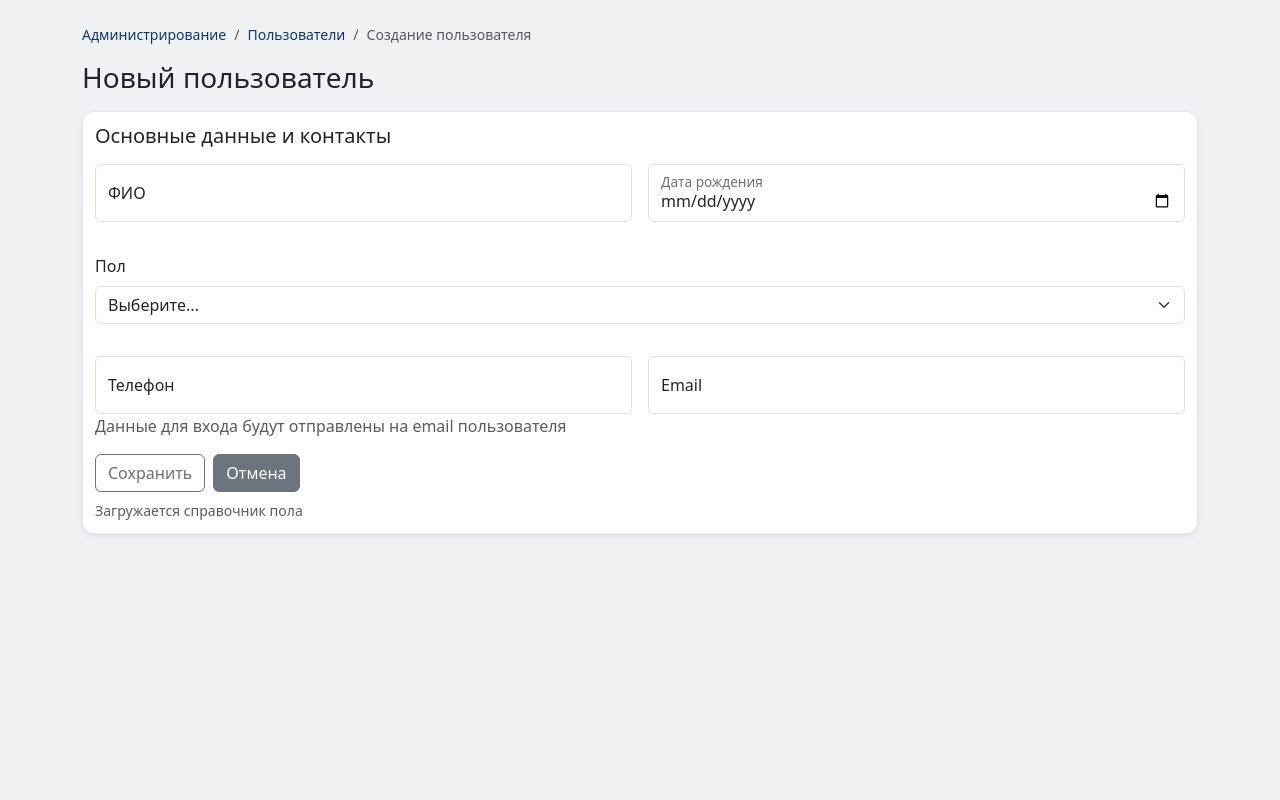
Test: AdminUserCreate view › shows resend CTA when delivery failed and retries invite
This screenshot has width=1280, height=800.
Type "Иванов Иван" into the field labelled "ФИО".
click(364, 193); type("Иванов Иван")  # box [95,164,632,222]
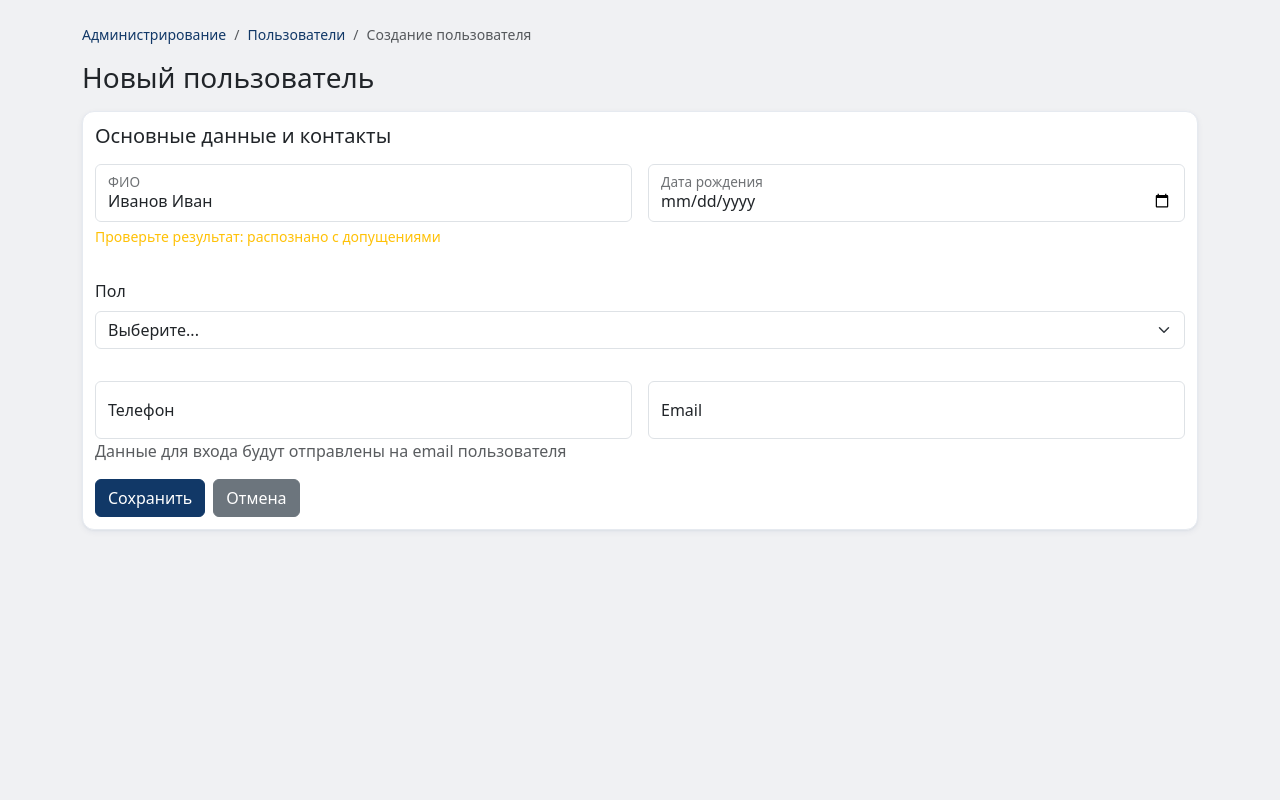
Type "2000-01-01" into the date field labelled "Дата рождения".
click(916, 193); type("2000-01-01")  # box [648,164,1185,222]
Select "Мужской" in the dropdown at (640, 330), box [95,311,1185,349]
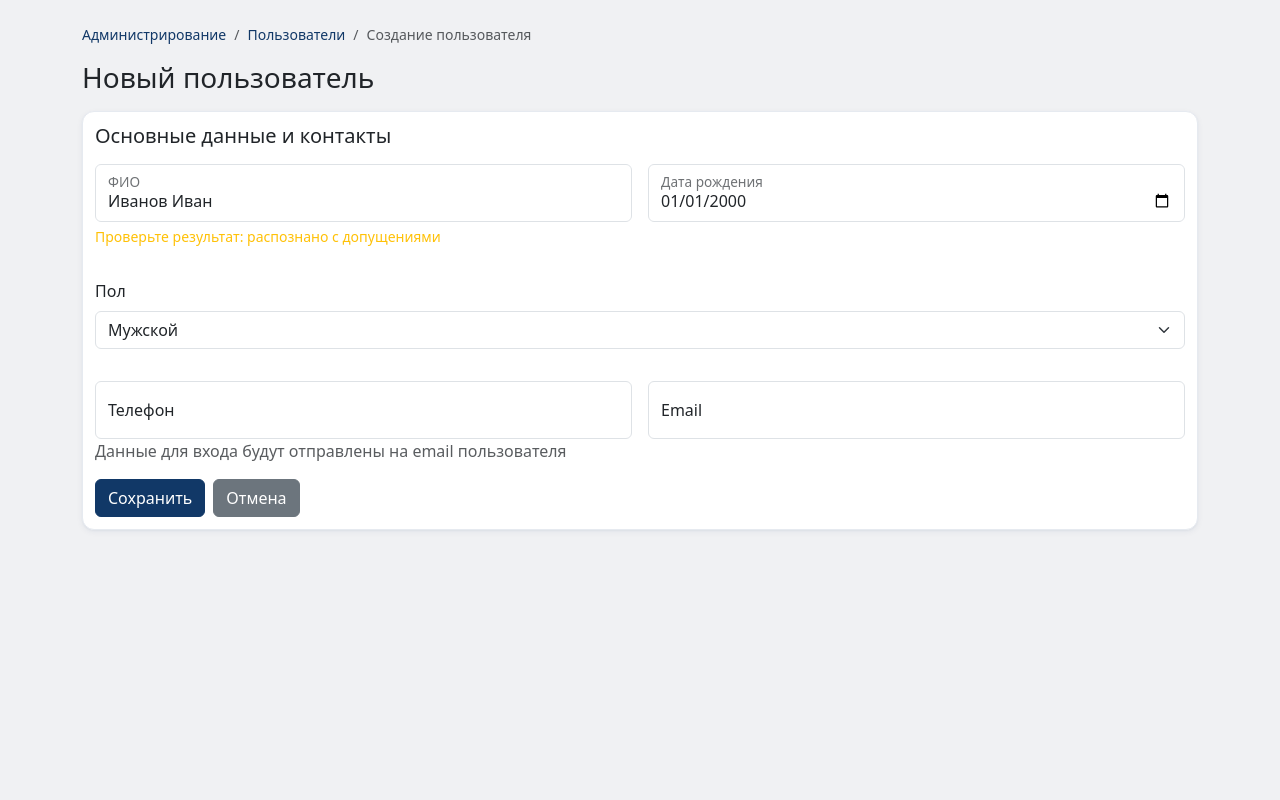
Type "89991112233" into the field with placeholder "Телефон".
click(364, 410); type("89991112233")  # box [95,381,632,439]
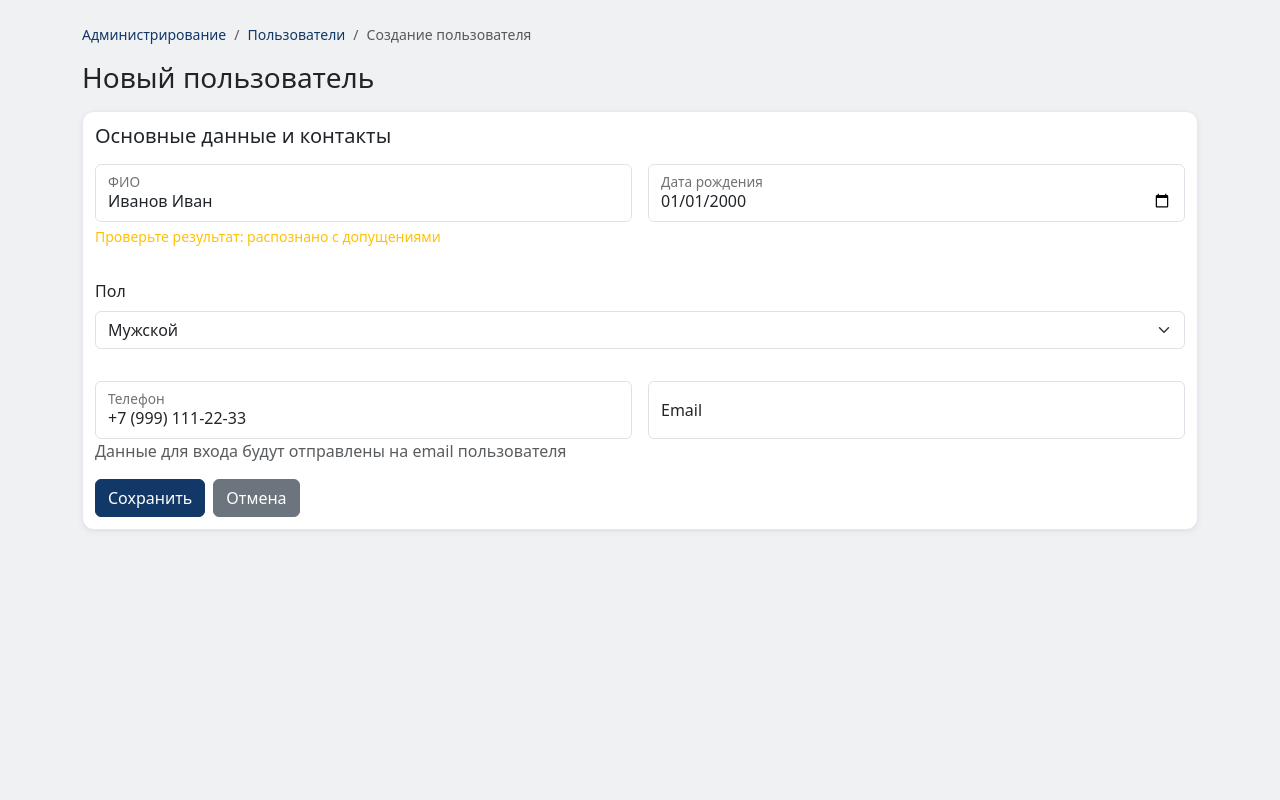
Type "ivanov@example.com" into the field with placeholder "Email".
click(916, 410); type("ivanov@example.com")  # box [648,381,1185,439]
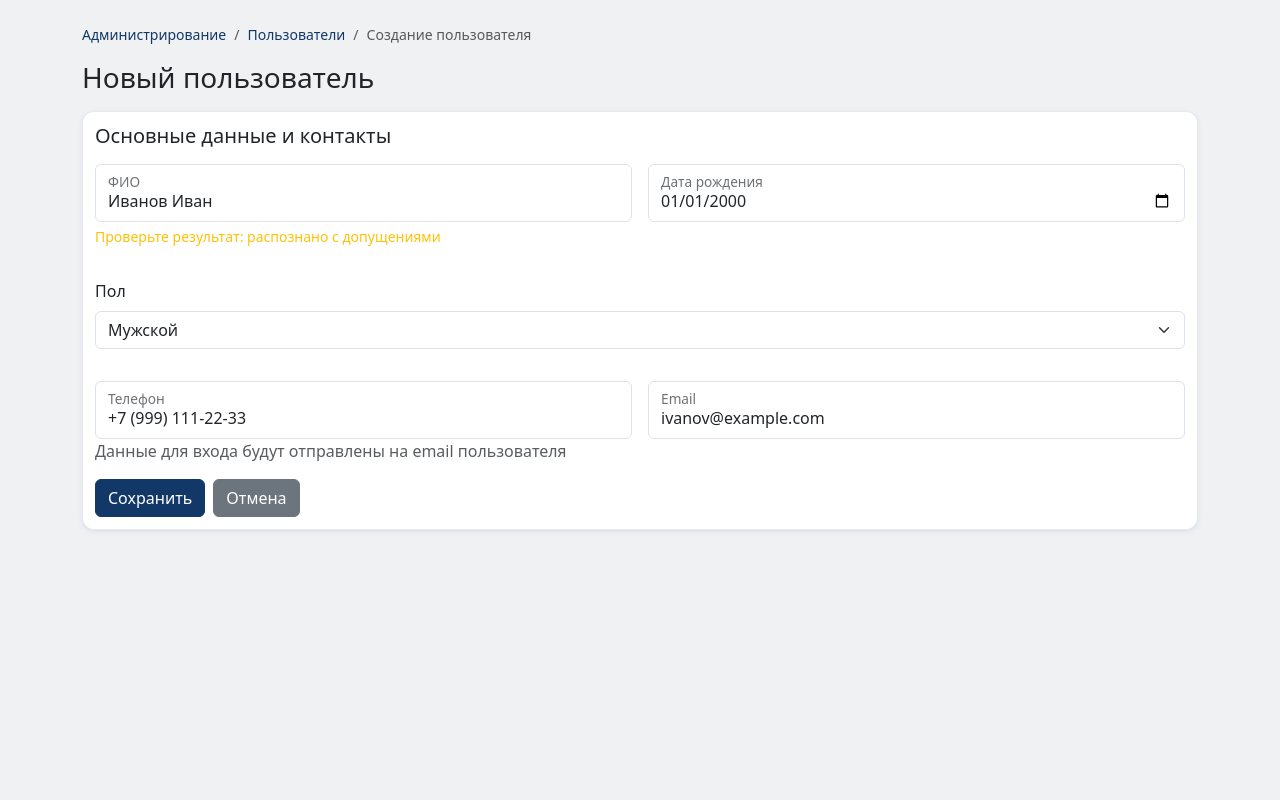
Click the button "Сохранить".
click(150, 498)  # box [95,479,205,517]
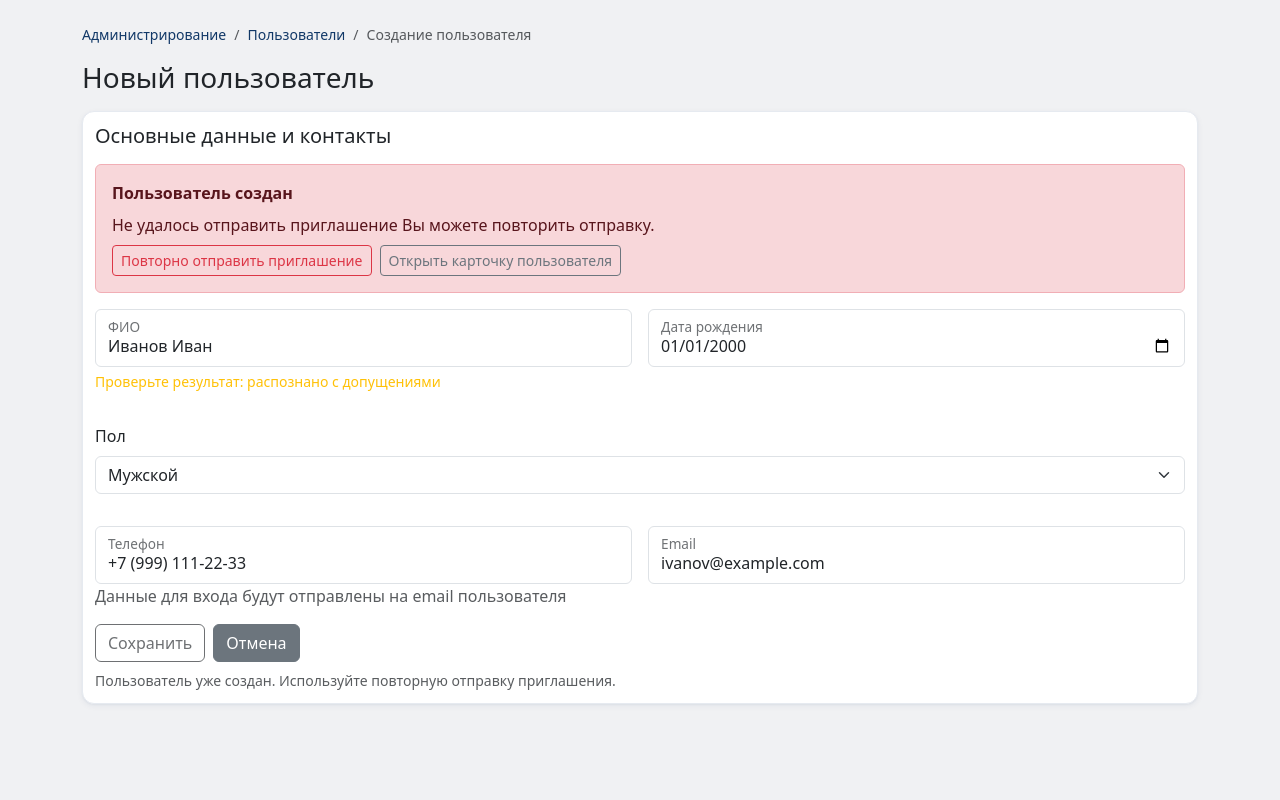
Result: the text "Пользователь создан" is shown at [112,182,293,204]
Result: the button "Повторно отправить приглашение" is shown
Click the button "Повторно отправить приглашение".
click(242, 260)  # box [112,245,372,276]
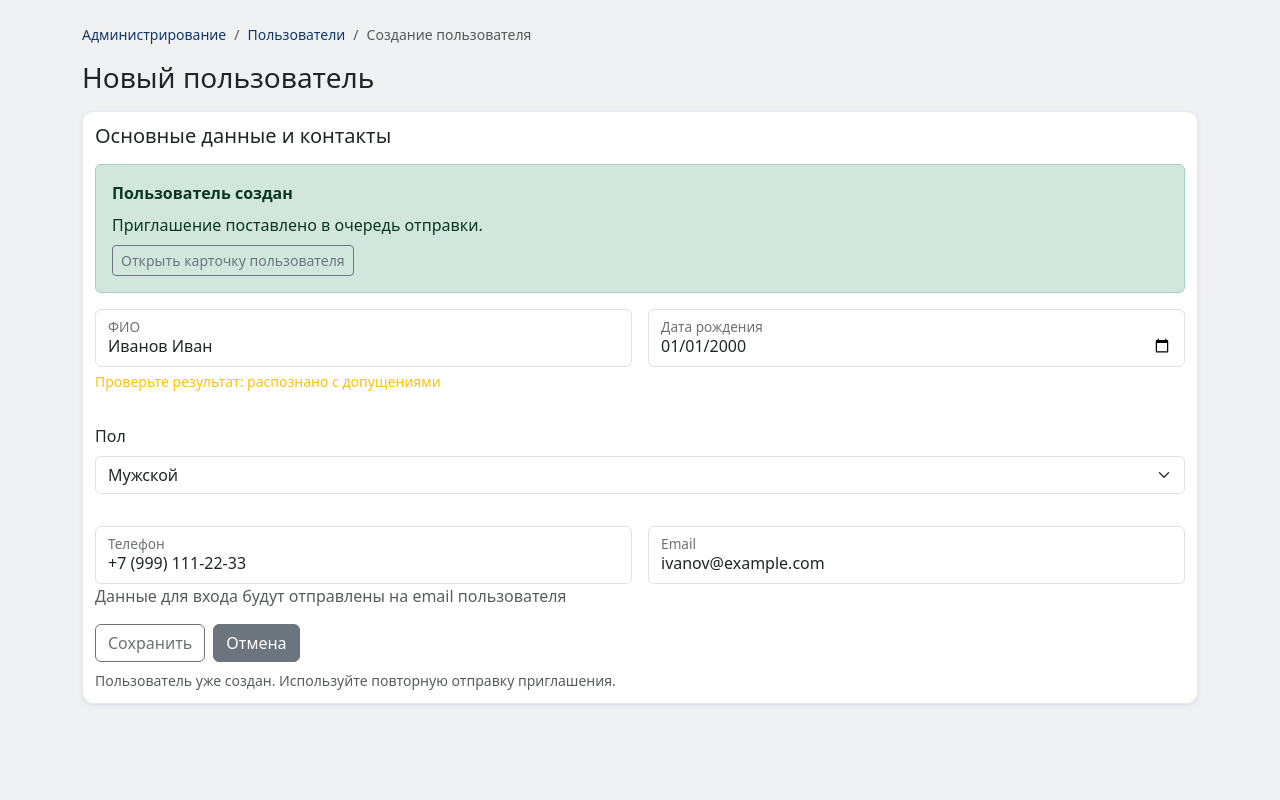
Result: the text "Приглашение поставлено в очередь отправки." is shown at [112,214,483,236]
